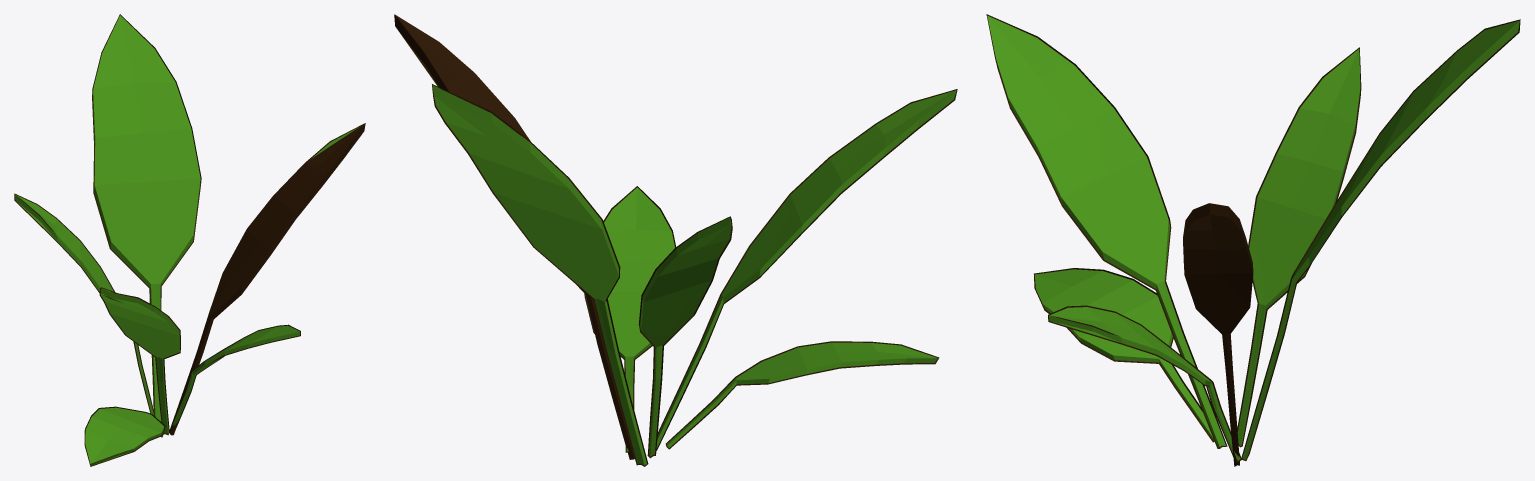
The model's file is PlantYard_(Outlined)_v002.fbx.
3 views of the same model, side by side, from view 1: azimuth 30°, elevation 25°; view 2: azimuth 150°, elevation 25°; view 3: azimuth 270°, elevation 25° (orthographic). The views are drawn at different scales.
Parts seen in each view (by area): view 1: Plane.007; view 2: Plane.007; view 3: Plane.007.
Boxes of the visible parts, bbox=[...] form: Plane.007: bbox=[14, 14, 365, 466]; Plane.007: bbox=[394, 14, 957, 466]; Plane.007: bbox=[986, 14, 1520, 466].
Size of the model in its own units: 706 by 674 by 679.
